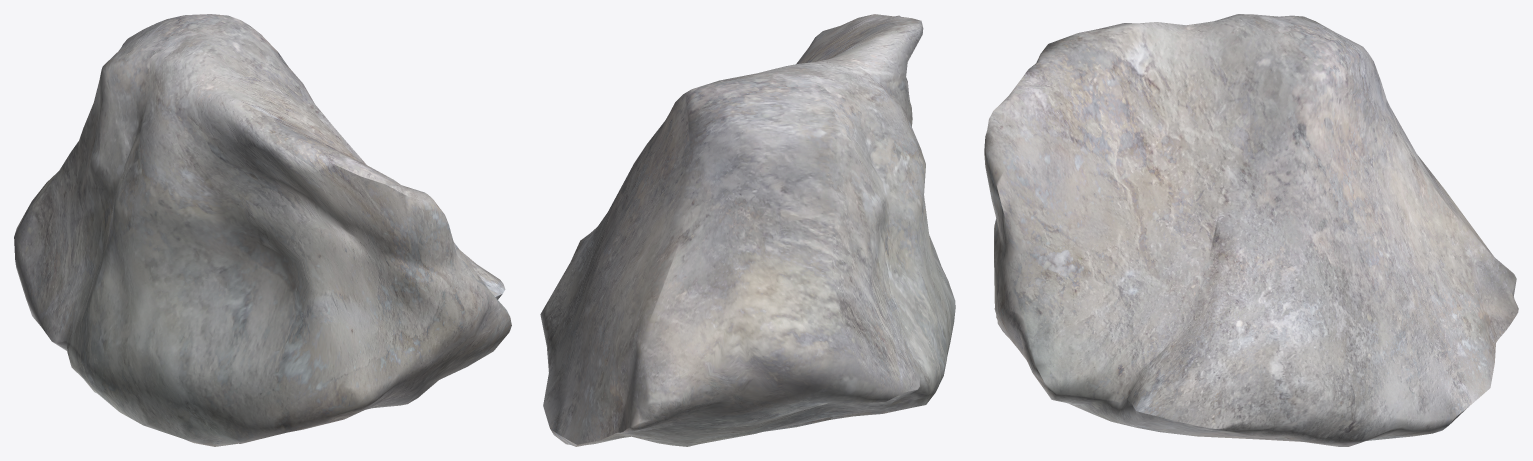
Rendered from rock_00D_2k.fbx.
3 views of the same model, side by side, from view 1: azimuth 30°, elevation 25°; view 2: azimuth 150°, elevation 25°; view 3: azimuth 270°, elevation 25° (orthographic).
Parts seen in each view (by area): view 1: rock_00D_2k; view 2: rock_00D_2k; view 3: rock_00D_2k.
Part boxes in pixels (x1=…): rock_00D_2k: x1=14, y1=14, x2=511, y2=446; rock_00D_2k: x1=540, y1=14, x2=955, y2=446; rock_00D_2k: x1=984, y1=14, x2=1518, y2=446.
Bounding box in the file's own units: 157 × 141 × 188.
